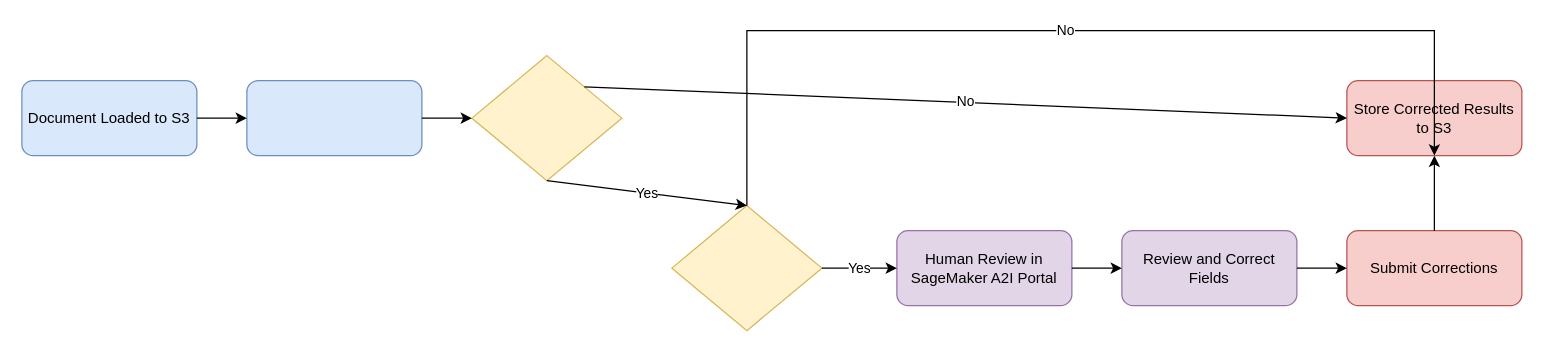
Some shapes in this 1544 by 353 pixel diagram are drawn without their labels. Each missing label, with the centre of its shape:
"Document Classification and Extraction" goes at (334,117).
"Is Confidence Score < Threshold?" goes at (746,267).
"Is HITL option selected?" goes at (546,117).
